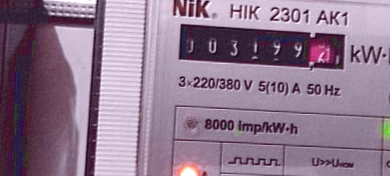0: (182, 33, 195, 54), (205, 33, 218, 54)
1: (249, 34, 260, 54)
3: (227, 37, 239, 56)
6: (316, 48, 327, 64)
9: (270, 36, 282, 56), (291, 38, 303, 58)
screen: (171, 19, 354, 77)
